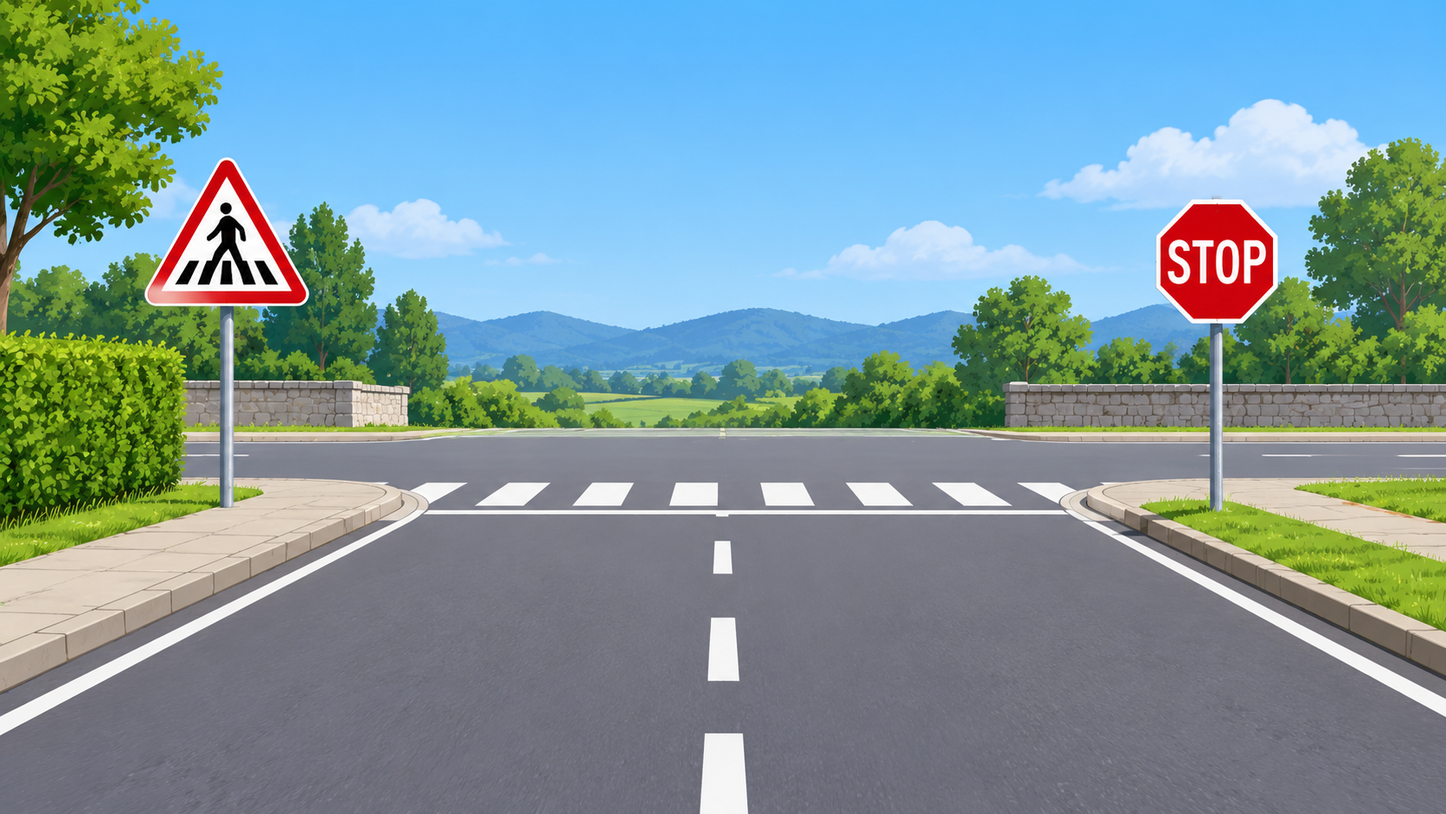crossing_warning_sign: (143, 158, 308, 305)
stop_sign: (1156, 202, 1277, 322)
zebra_crossing: (405, 480, 1114, 516)
